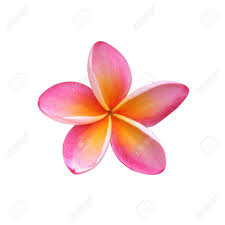frangipani: (37, 40, 190, 177)
